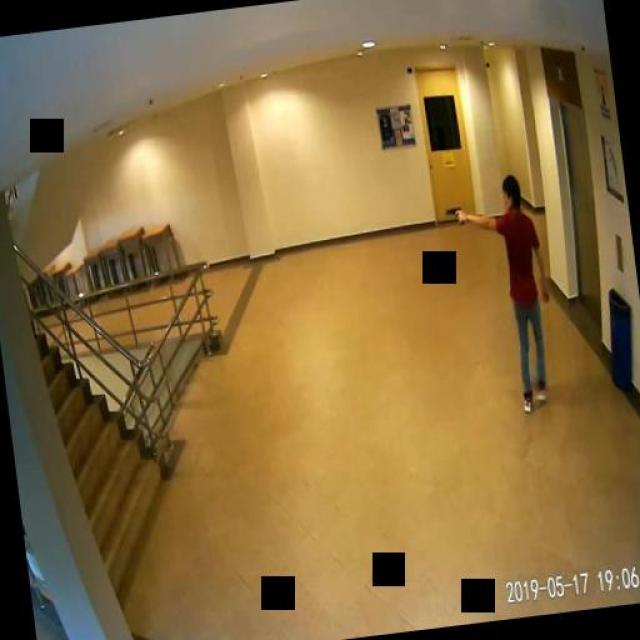gun: (445, 204, 465, 226)
